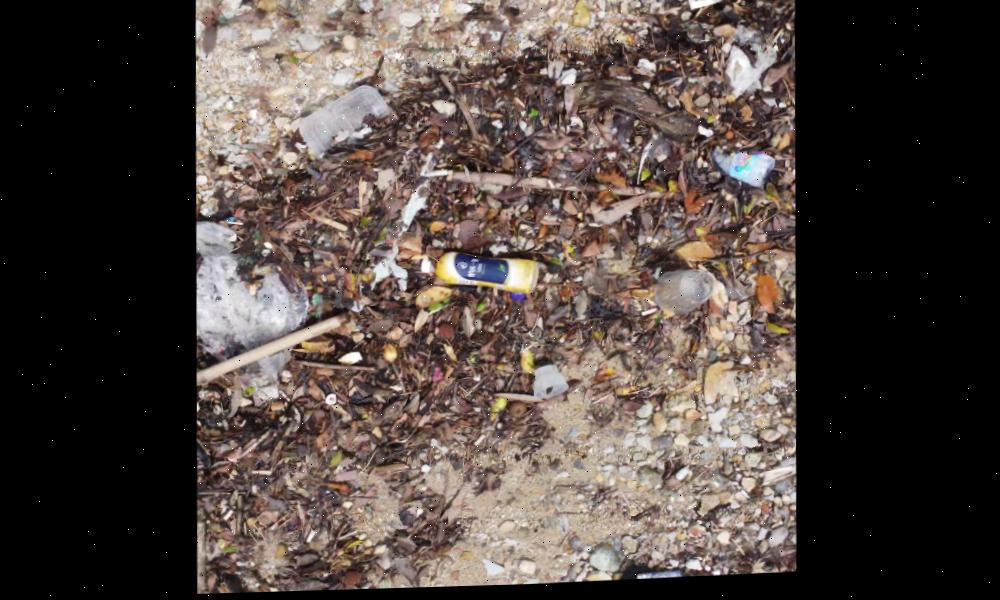plastic bottle: (421, 234, 543, 317), (707, 144, 777, 195)
